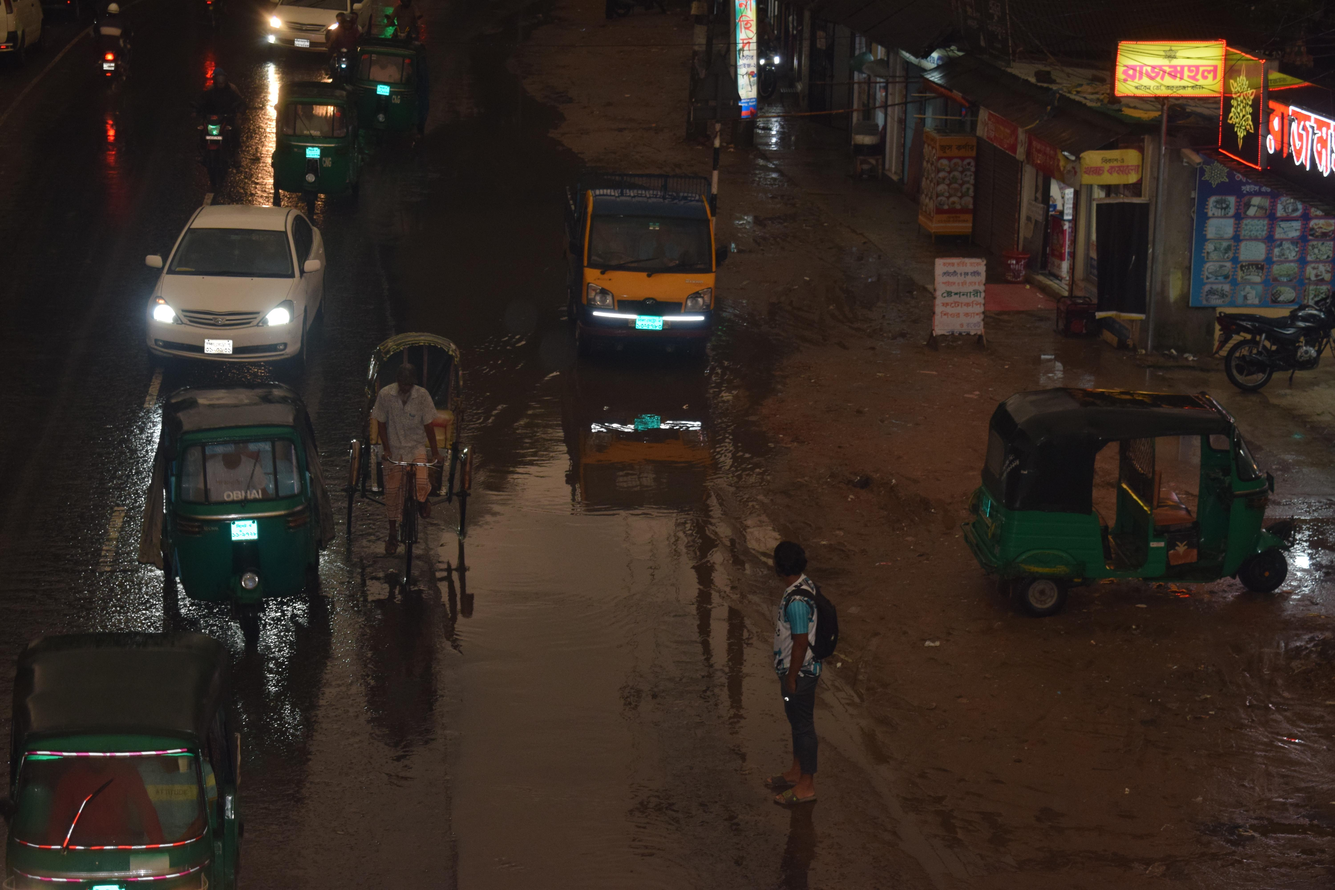Bike: (176, 51, 265, 186), (68, 0, 146, 95)
Car: (316, 300, 535, 612), (99, 174, 367, 386)
Truck: (533, 138, 745, 384)
